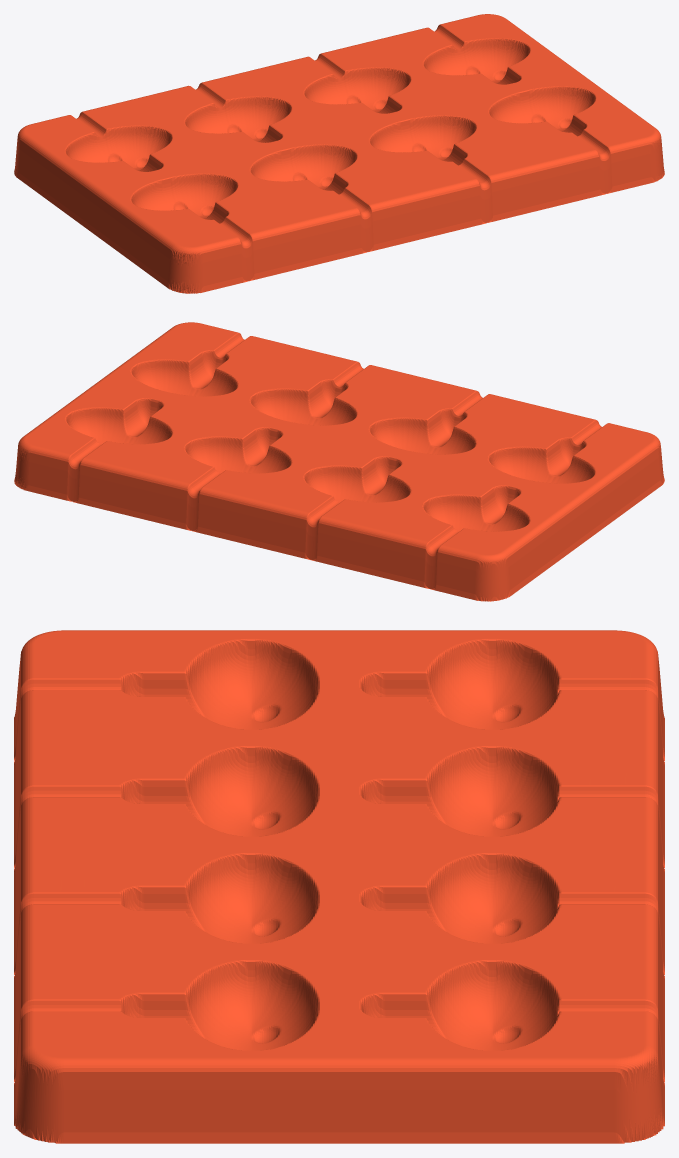
The model's file is mold.glb.
3 views of the same model, one above another, from view 1: azimuth 30°, elevation 25°; view 2: azimuth 150°, elevation 25°; view 3: azimuth 270°, elevation 25° (orthographic). The views are drawn at different scales.
Parts seen in each view (by area): view 1: geometry_0; view 2: geometry_0; view 3: geometry_0.
Part boxes in pixels (left/top/right/bottom): geometry_0: left=14, top=14, right=664, bottom=293; geometry_0: left=14, top=322, right=664, bottom=601; geometry_0: left=14, top=630, right=664, bottom=1143.
Bounding box in the file's own units: 0.1907 × 0.0155 × 0.1184.
